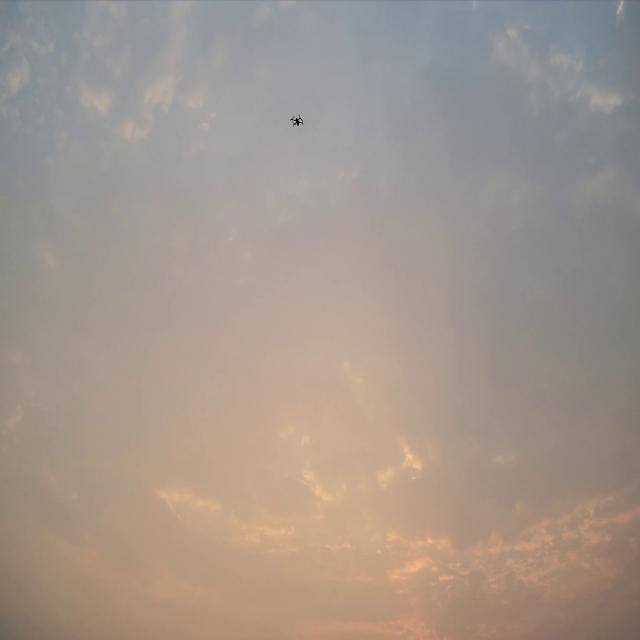UAV: (289, 113, 303, 127)
